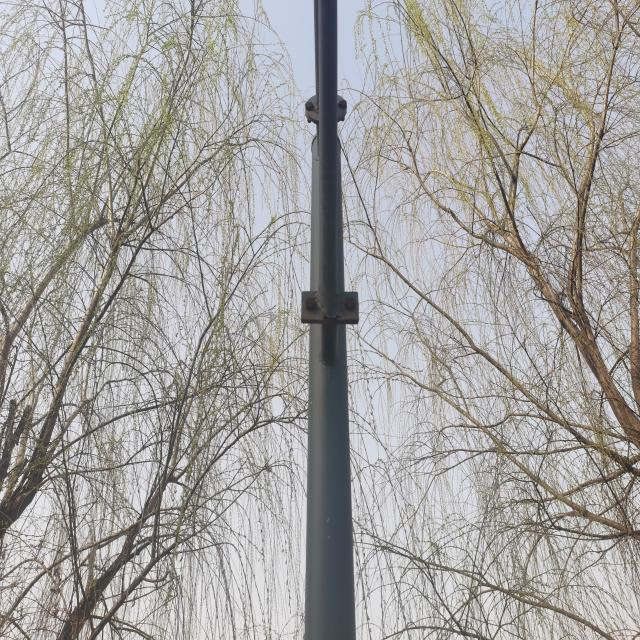blur bolt: (343, 296, 358, 311), (304, 296, 317, 312), (304, 100, 314, 111), (338, 98, 348, 109)
